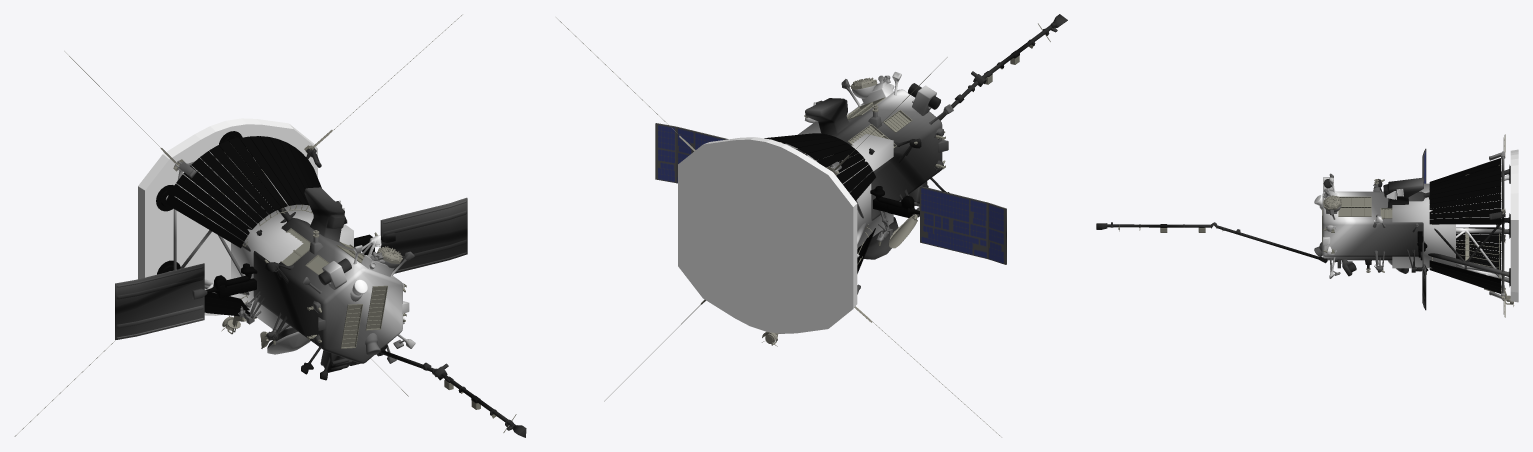
File: parker.obj
The picture shows the model from 3 angles, left to right: view 1: azimuth 30°, elevation 25°; view 2: azimuth 150°, elevation 25°; view 3: azimuth 270°, elevation 25°; orthographic projection. The views are drawn at different scales.
Visible parts, largest first — view 1: BUS, CoolingSystem, Instruments, solarWing_LeftBacking, solarWing_RightBacking, _root, vents, solarArray_arms, boom, heatShield_Mounting, HGA; view 2: Instruments, BUS, CoolingSystem, _root, boom, vents, solarArray_arms, electricAntennas; view 3: BUS, CoolingSystem, _root, Instruments, boom, vents.
Part boxes in pixels (box(x1,y1,x2,y2)): BUS: box(165, 143, 415, 380); CoolingSystem: box(165, 136, 321, 317); Instruments: box(115, 118, 466, 348); solarWing_LeftBacking: box(115, 263, 204, 339); solarWing_RightBacking: box(381, 198, 467, 273); _root: box(231, 203, 353, 331); vents: box(280, 228, 387, 348); solarArray_arms: box(192, 232, 395, 299); boom: box(377, 345, 526, 437); heatShield_Mounting: box(156, 131, 242, 274); HGA: box(267, 331, 310, 354); Instruments: box(655, 77, 1006, 346); BUS: box(796, 72, 953, 294); CoolingSystem: box(764, 133, 875, 273); _root: box(785, 121, 893, 247); boom: box(939, 14, 1067, 120); vents: box(846, 97, 912, 147); solarArray_arms: box(870, 186, 919, 217); electricAntennas: box(556, 17, 1001, 437); BUS: box(1314, 151, 1509, 300); CoolingSystem: box(1429, 158, 1501, 293); _root: box(1392, 183, 1455, 268); Instruments: box(1323, 134, 1518, 317); boom: box(1096, 222, 1327, 263); vents: box(1322, 196, 1392, 242).
Bounding box in the file's own units: 5.75 × 5.26 × 6.61.
6 materials, 2 textured.
